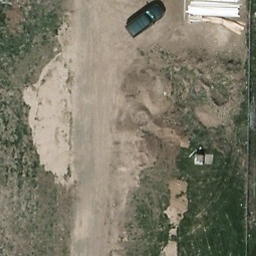car: (124, 3, 167, 39)
